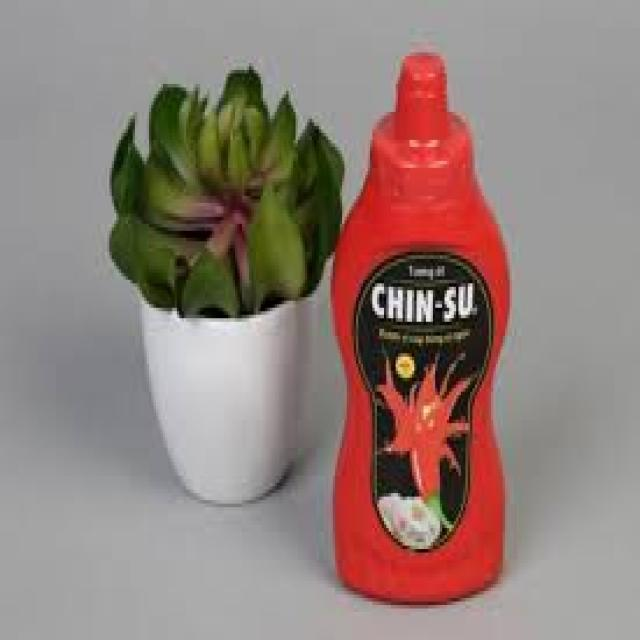tuong ot chinsu: (330, 44, 512, 599)
